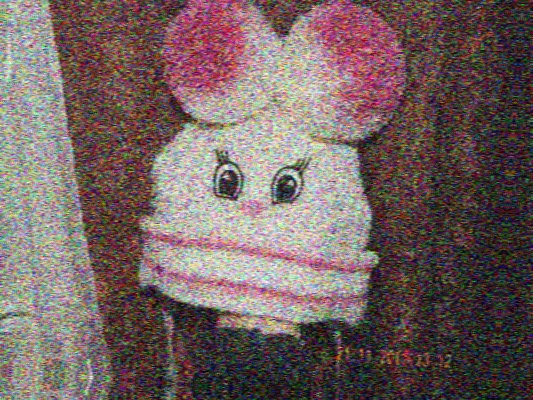Hat: (88, 0, 426, 348)
